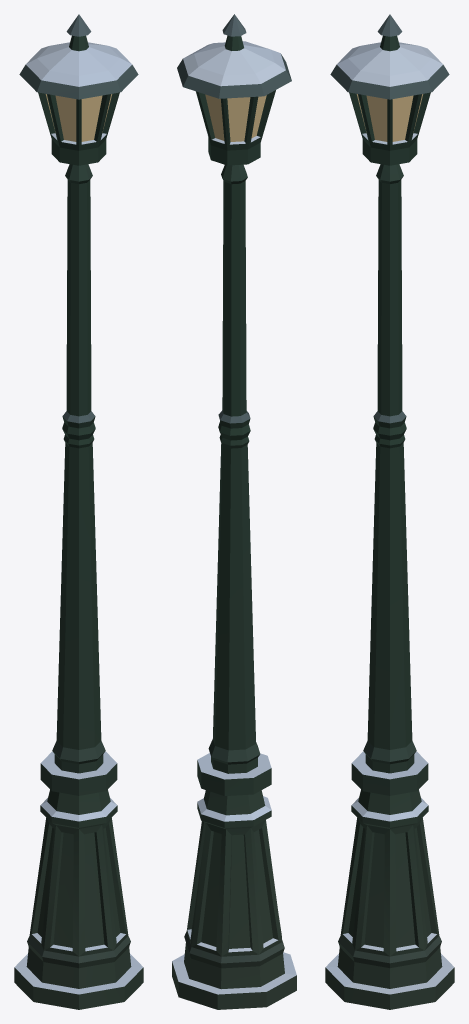
File: lamp_ornate.glb
3 views of the same model, side by side, from view 1: azimuth 90°, elevation 25°; view 2: azimuth 210°, elevation 25°; view 3: azimuth 270°, elevation 25° (orthographic).
Visible parts, largest first — view 1: Prop; view 2: Prop; view 3: Prop.
Boxes of the visible parts, left/top/right/bottom form: Prop: left=14, top=14, right=143, bottom=1009; Prop: left=172, top=14, right=296, bottom=1009; Prop: left=325, top=14, right=454, bottom=1009.
Bounding box in the file's own units: 0.5315 × 4.4 × 0.5315.
